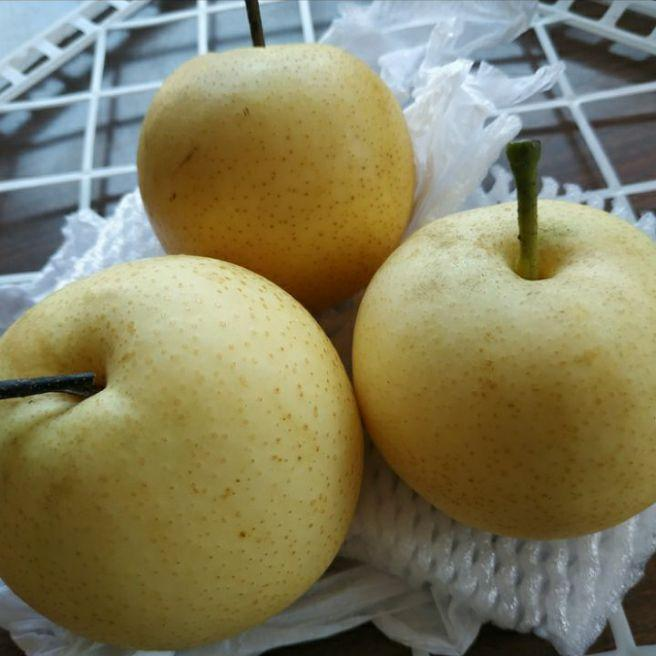Pear Overripe: (405, 156, 626, 544)
Pear Unripe: (14, 214, 337, 618)
